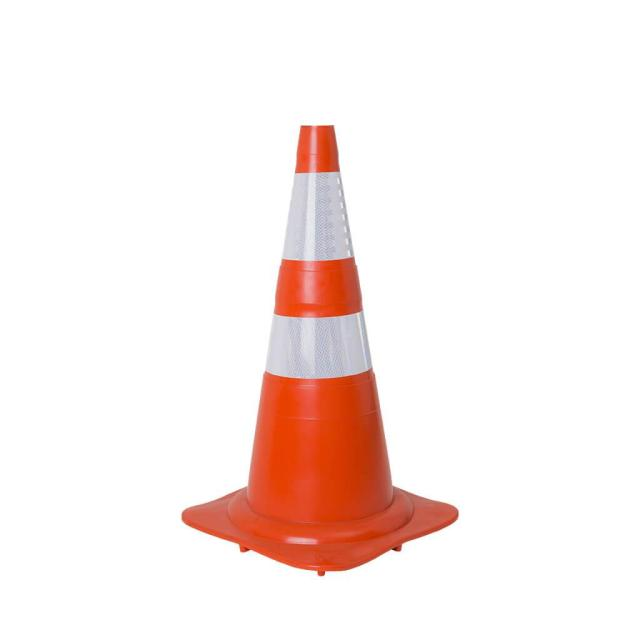cone: (192, 115, 473, 578)
